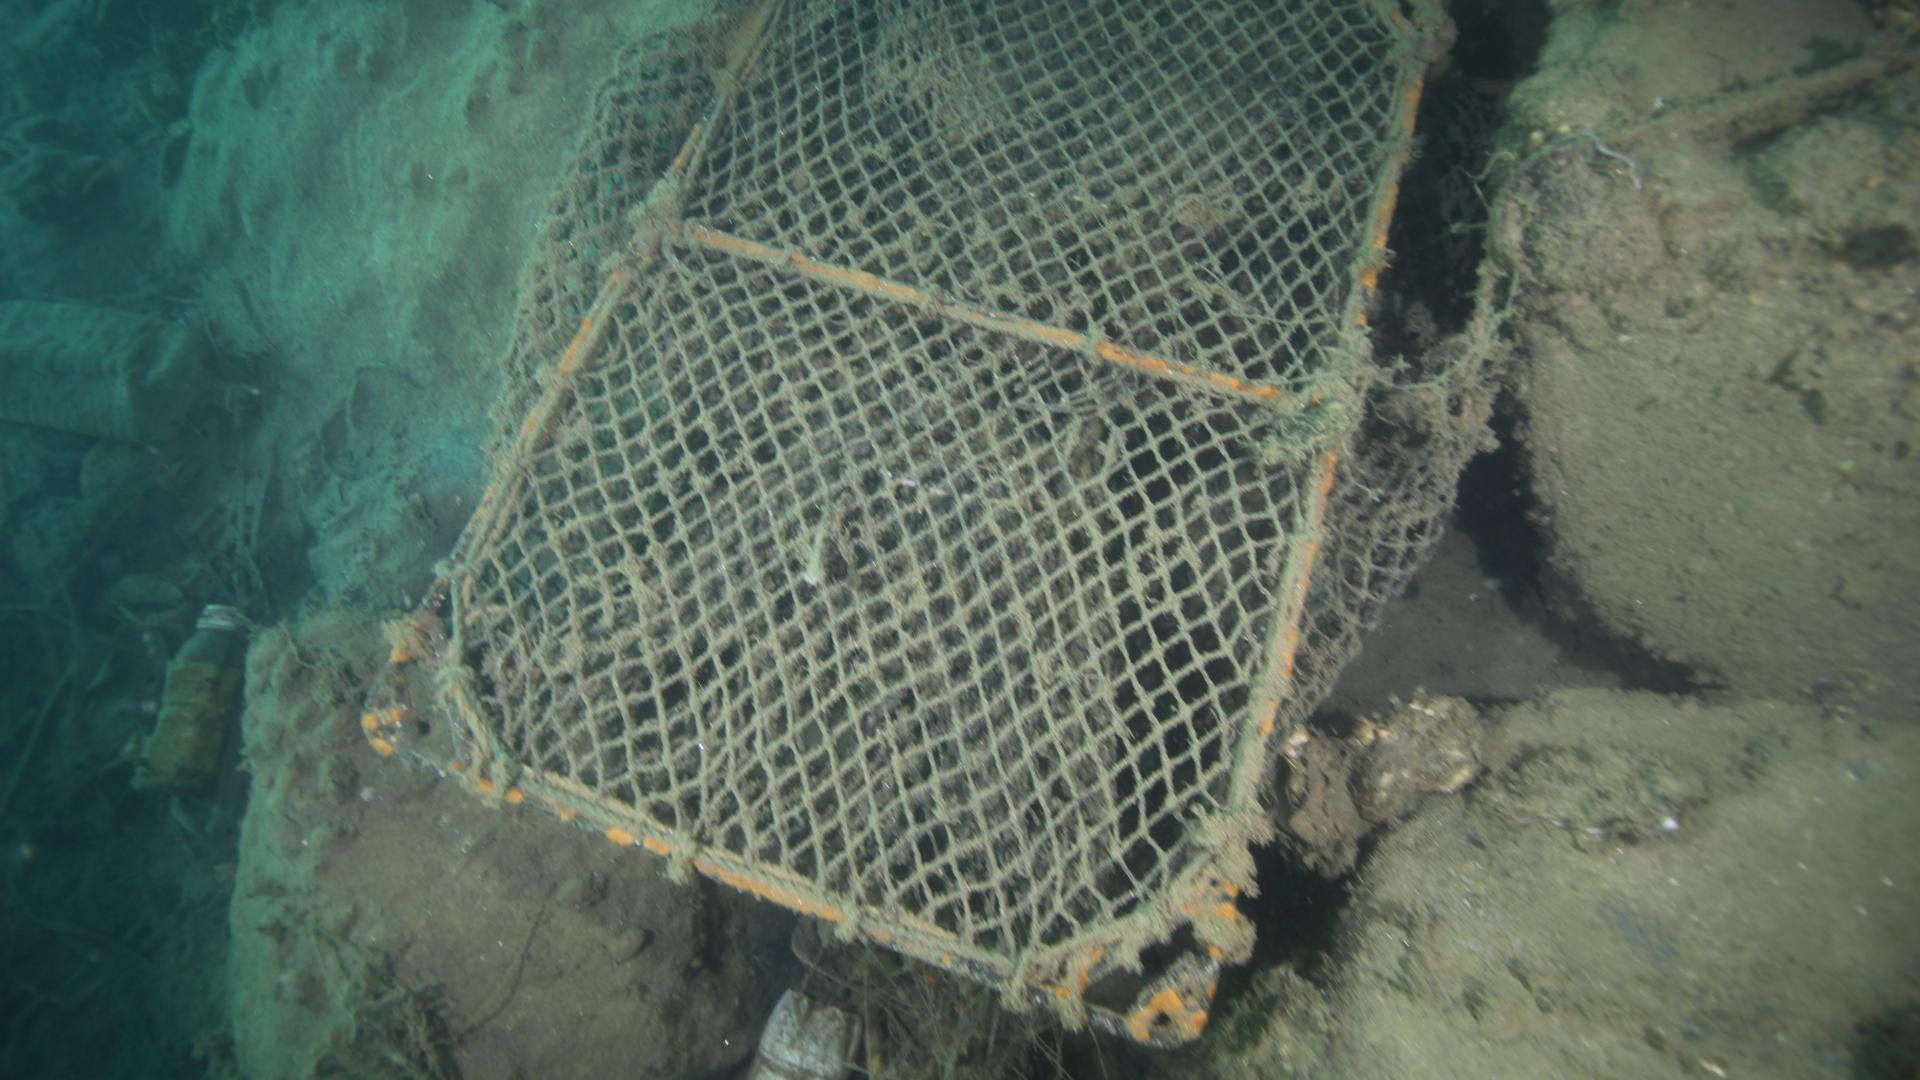rectangular fish trap: (357, 0, 1444, 1050)
